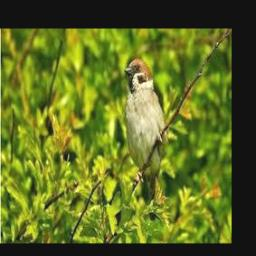Sparrow: (124, 59, 166, 221)
